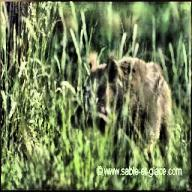boar: (70, 51, 172, 151)
